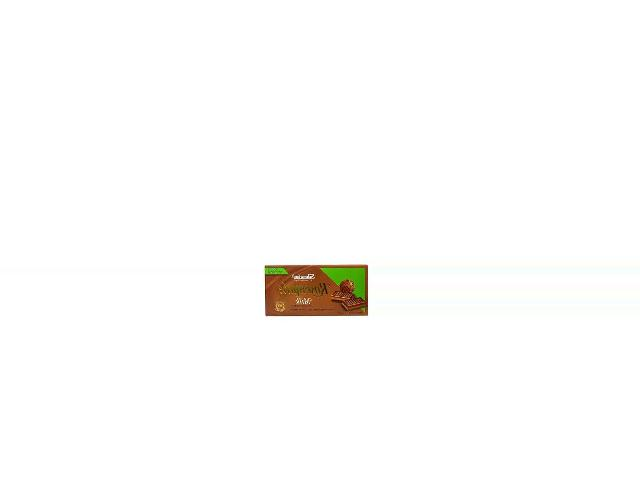chocolate: (261, 260, 369, 318)
